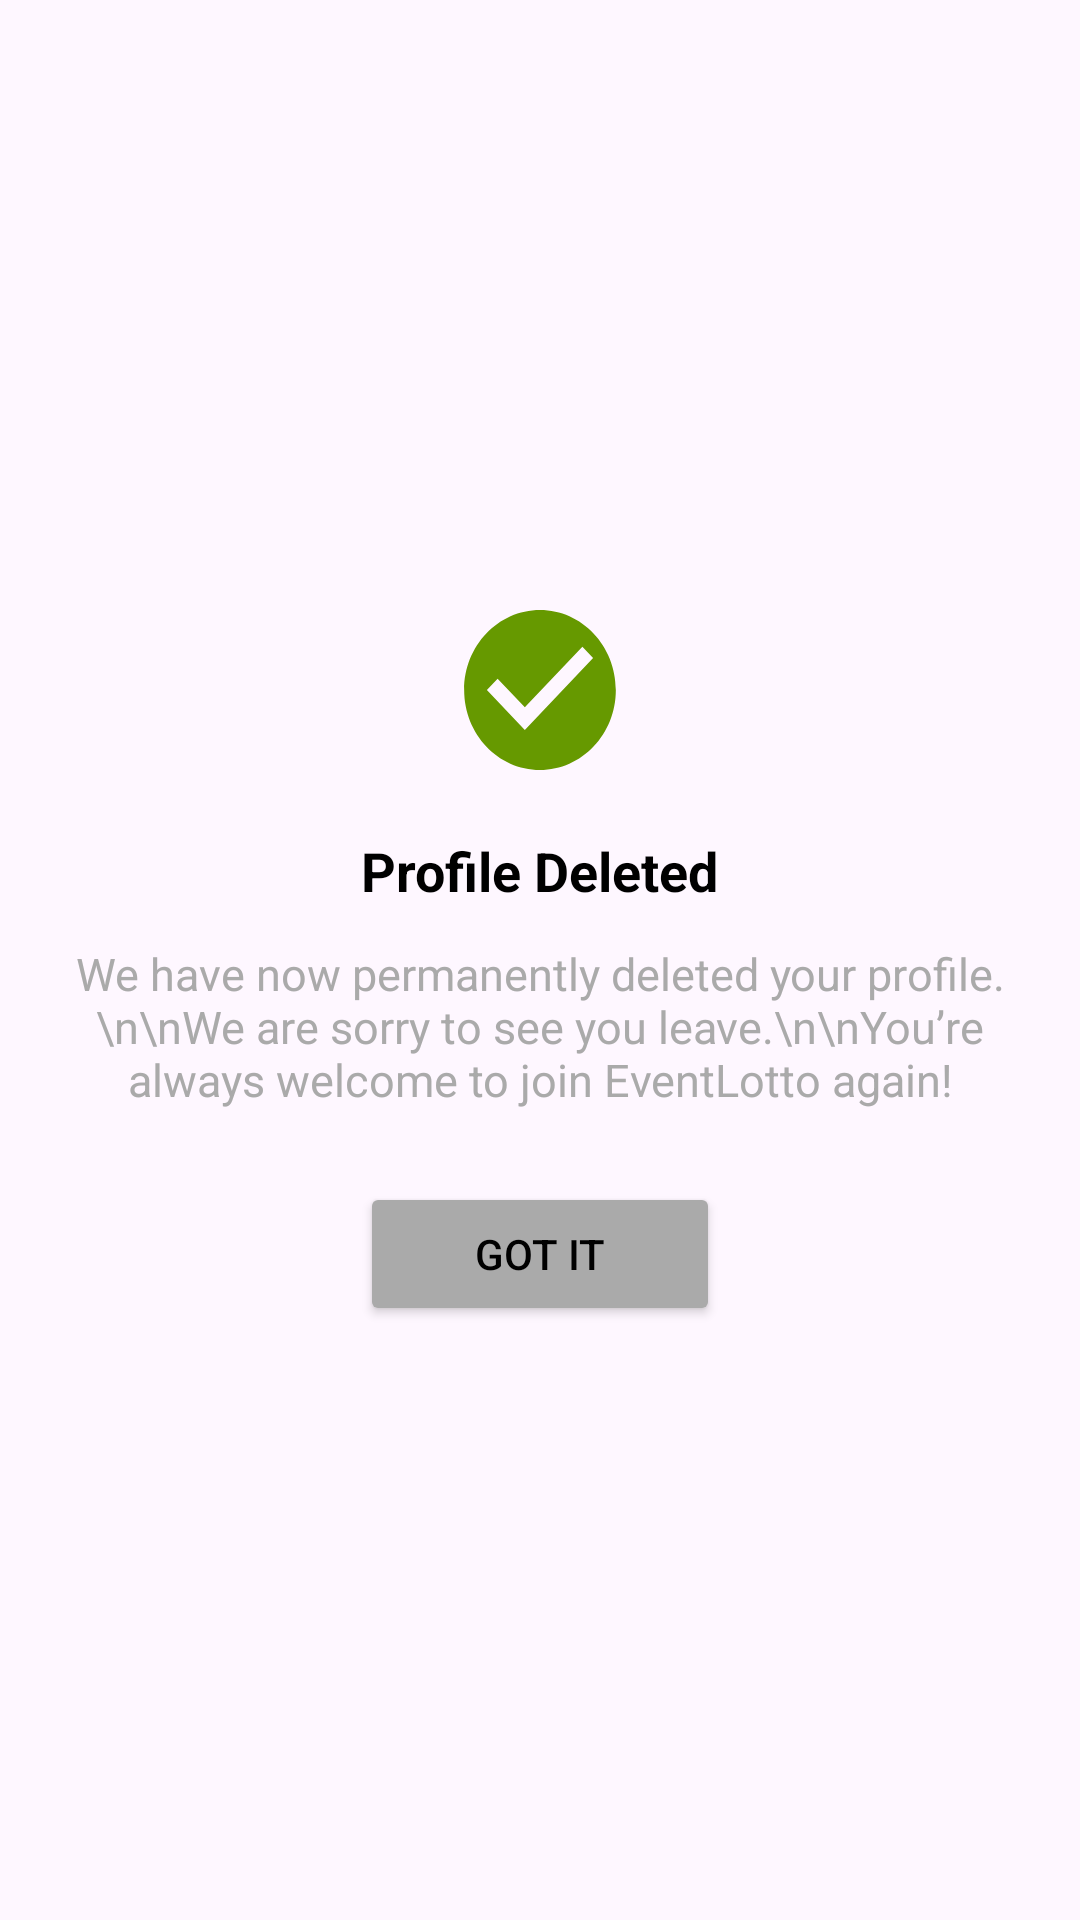

Where to tap for icons on this 1080px×1920px app screen, as (x,y):
check circle: (540,690)
